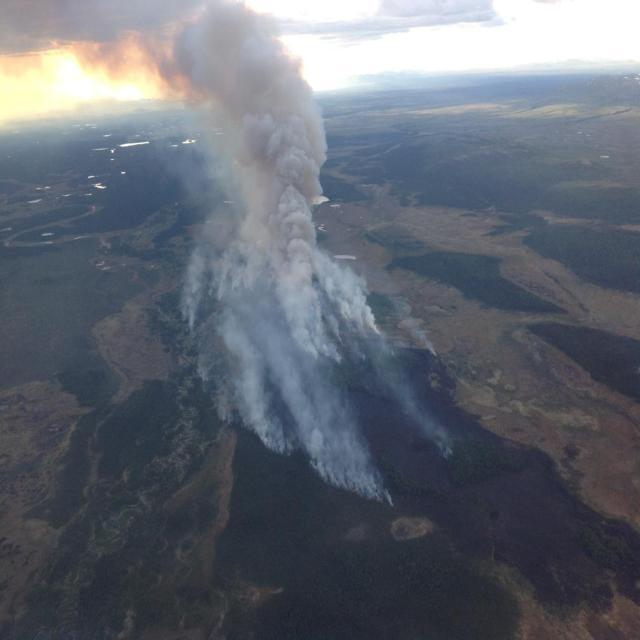Smoke: (110, 6, 457, 476)
